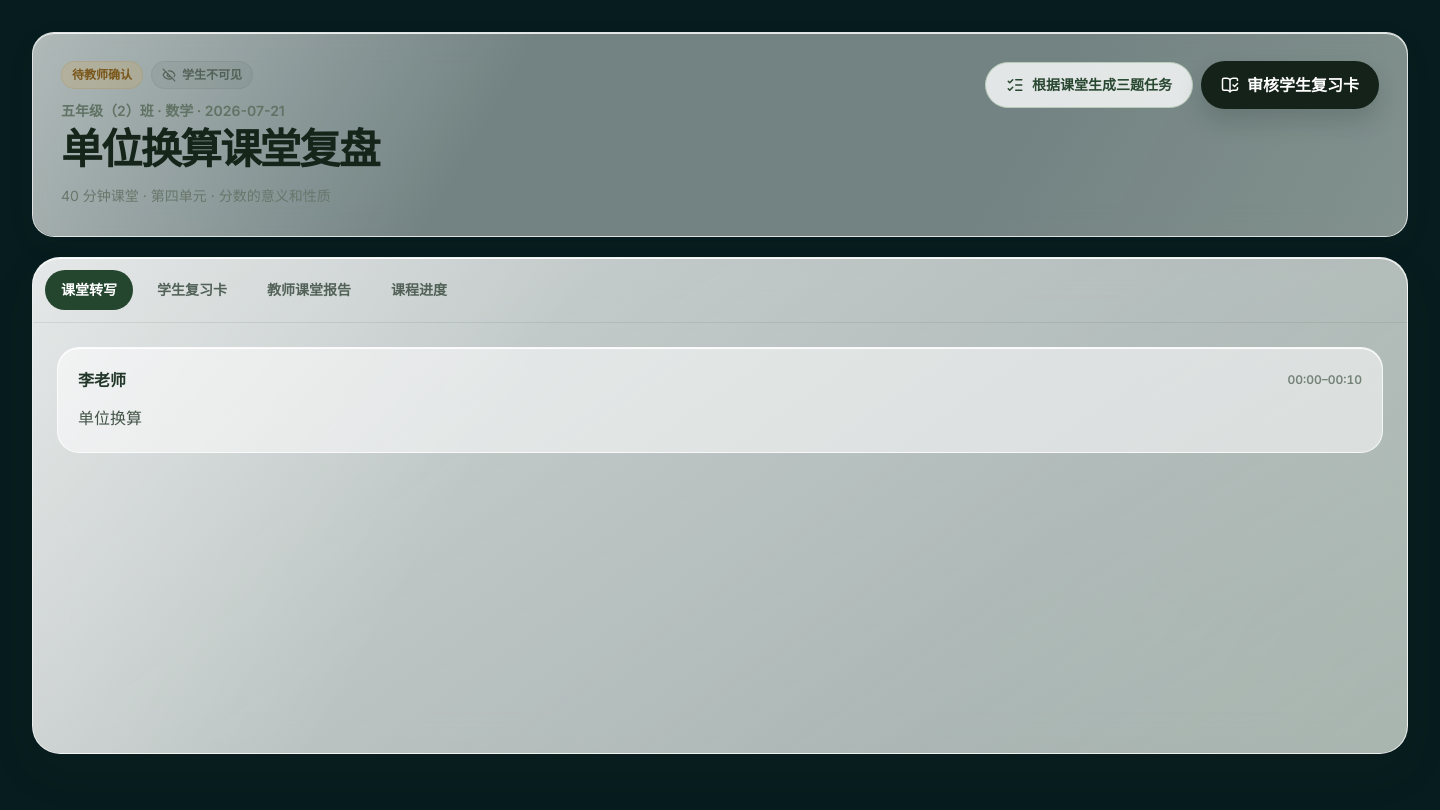
Test case: LessonDetailPage › edits and saves the current AI recap through PrototypeContext
This screenshot has width=1440, height=810.
Click the tab "学生复习卡". click: point(192, 290)
box: x1=141 y1=270 x2=243 y2=310
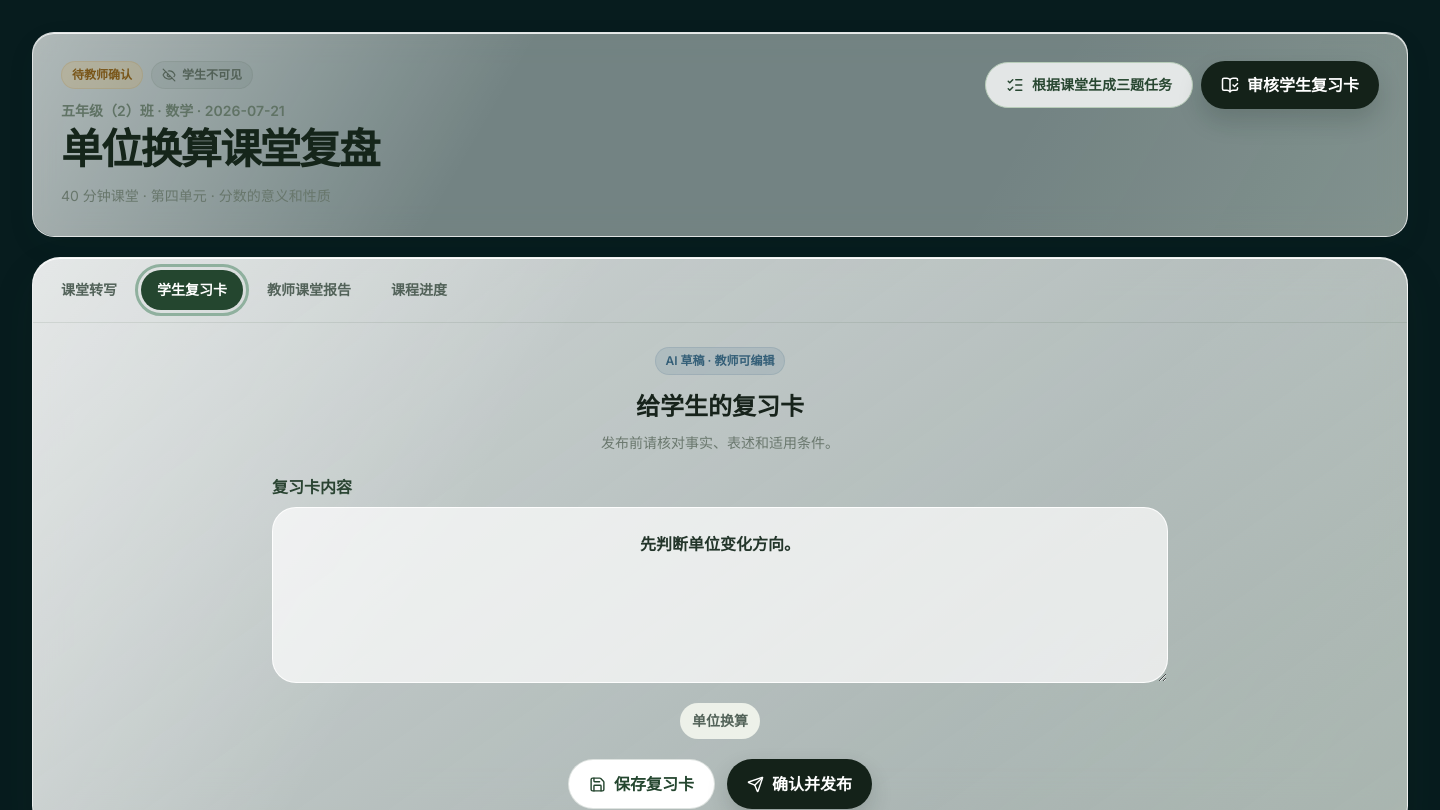
Replace the text in the text box labelled "复习卡内容" with "分子和分母同时乘或除以相同且不为零的数，分数大小不变。". click: point(720, 595)
box: x1=272 y1=507 x2=1168 y2=683
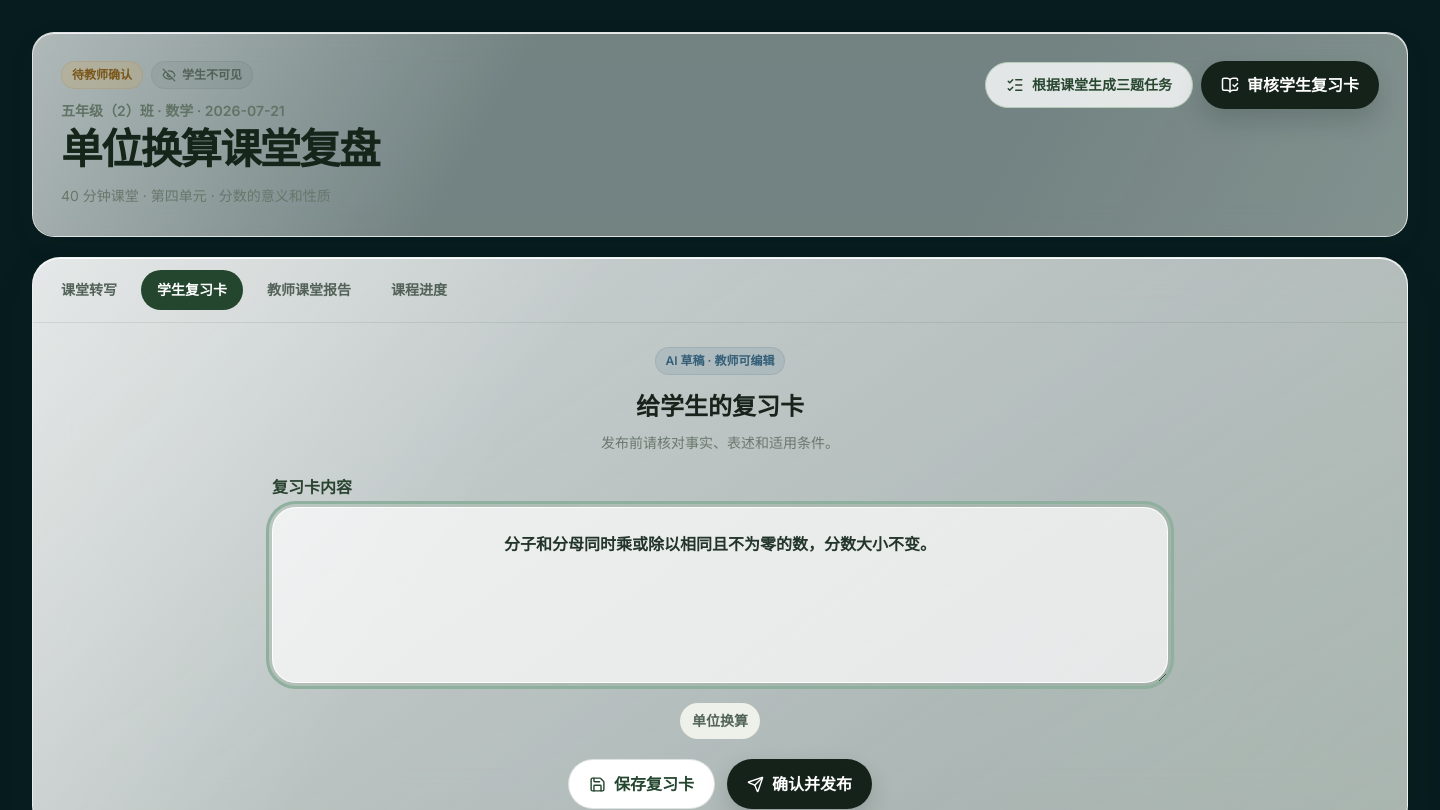
Click the button "保存复习卡". click: point(642, 784)
box: x1=568 y1=759 x2=715 y2=809
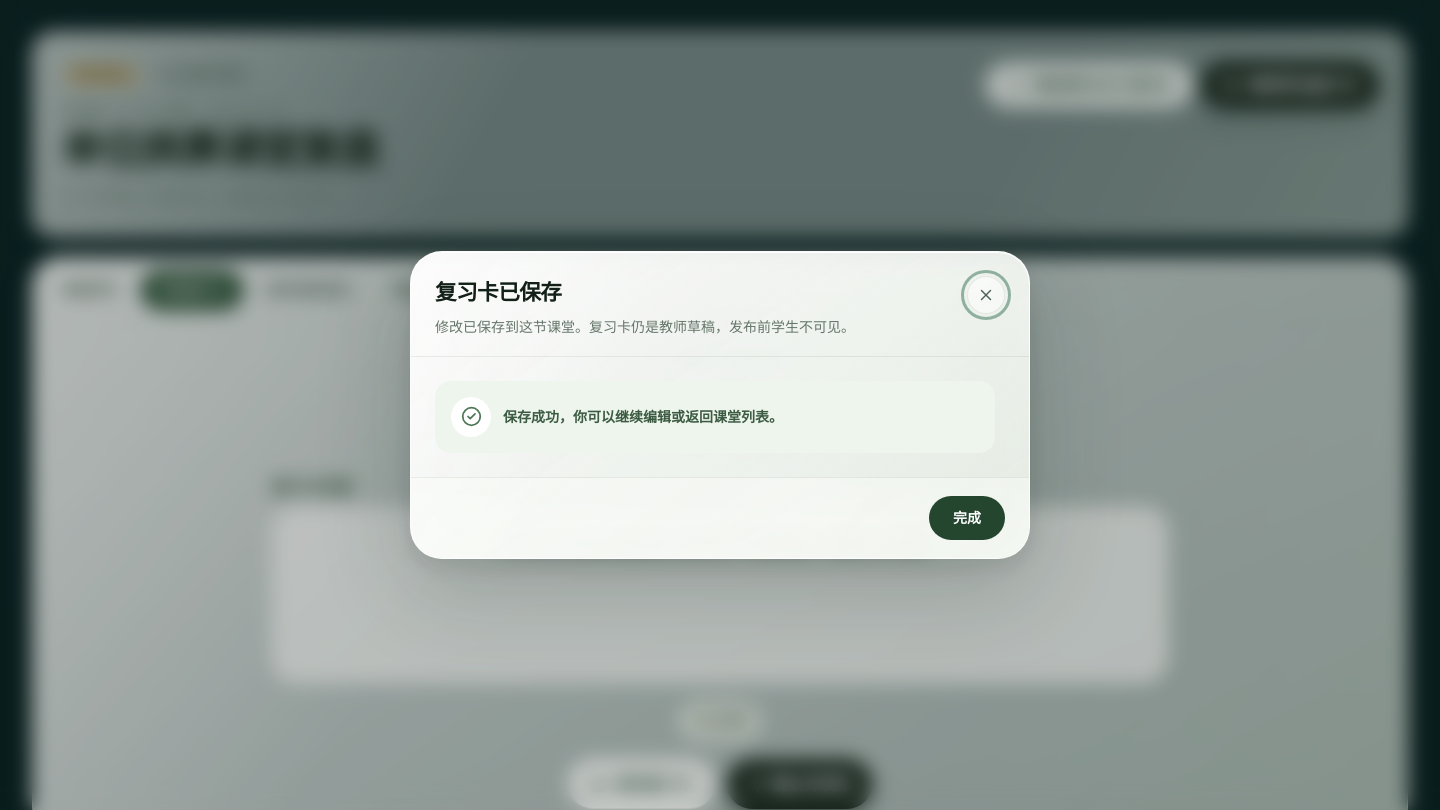
expect the text "修改已保存到这节课堂。复习卡仍是教师草稿，发布前学生不可见。" is shown: met, box x1=435 y1=316 x2=855 y2=338
